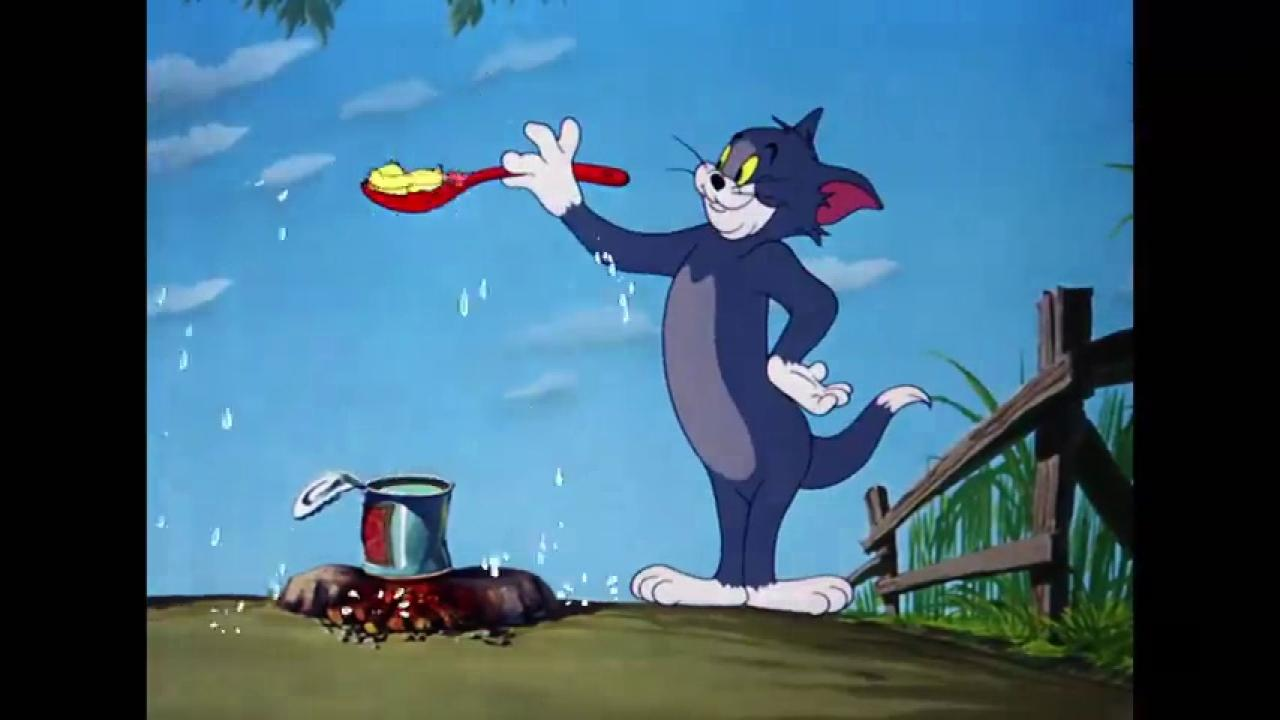Tom: (500, 104, 936, 617)
